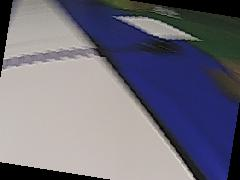CrossWalk: (3, 43, 101, 73)
